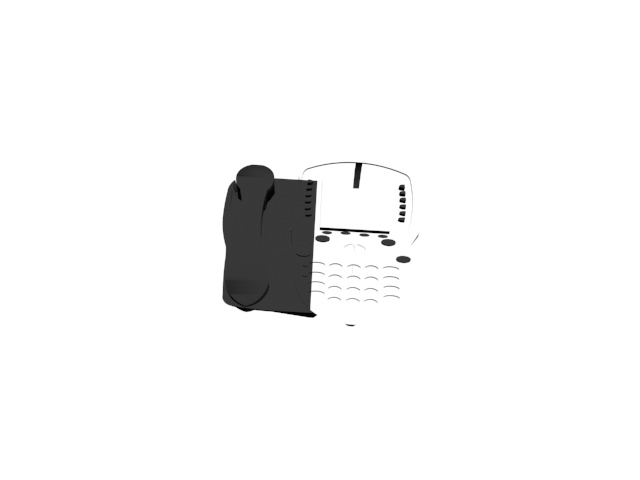phone: (217, 161, 424, 328)
